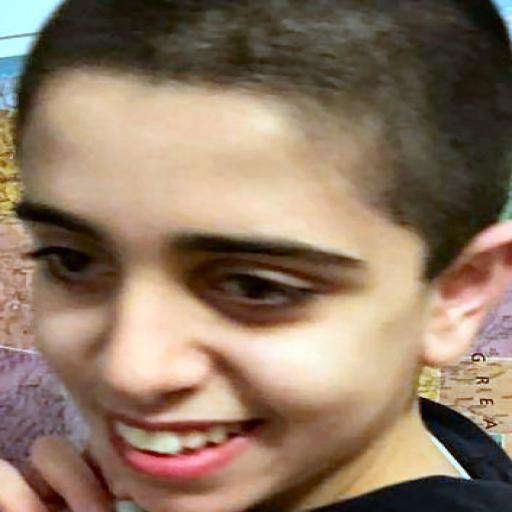Autism: (3, 1, 512, 501)
